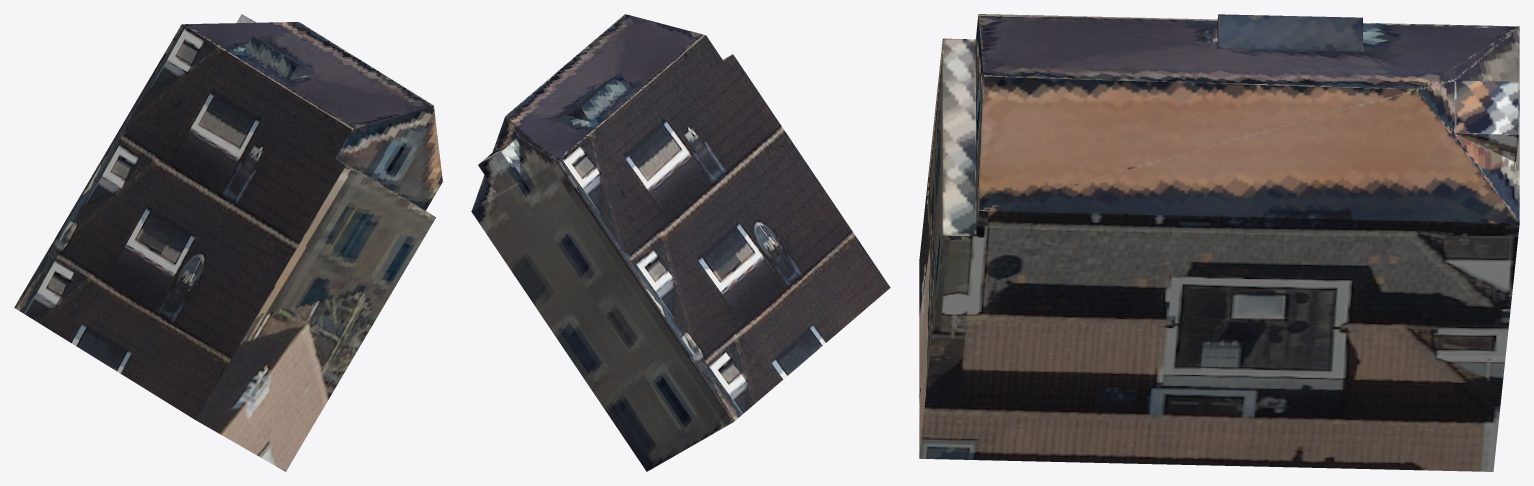
3 renders of one model, left to right at view 1: azimuth 30°, elevation 25°; view 2: azimuth 150°, elevation 25°; view 3: azimuth 270°, elevation 25°, orthographic. The views are drawn at different scales.
Visible parts, largest first — view 1: BAG_0599100000688699 (×6); view 2: BAG_0599100000688699 (×6); view 3: BAG_0599100000688699 (×6).
Part boxes in pixels (x1,y1,x2,y2): BAG_0599100000688699 (×6): (14, 14, 442, 471); BAG_0599100000688699 (×6): (471, 14, 890, 471); BAG_0599100000688699 (×6): (919, 14, 1519, 471).
Size of the model in its own units: 10.94 by 12.55 by 12.47.
6 materials, 6 textured.
